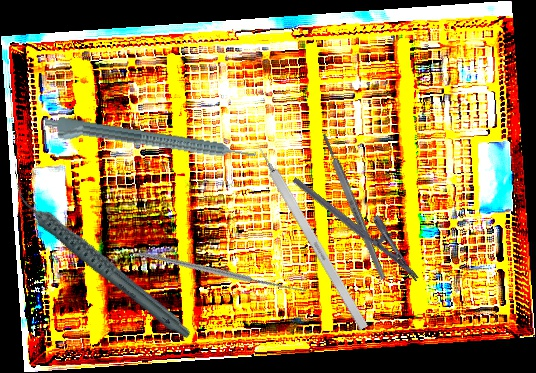Handpiece: (10, 152, 194, 370), (42, 114, 257, 172)
Hook Surgical: (138, 184, 312, 355), (247, 132, 370, 331)
Needle Holder: (291, 159, 434, 283)
Scalpel Handle: (319, 131, 388, 282)
